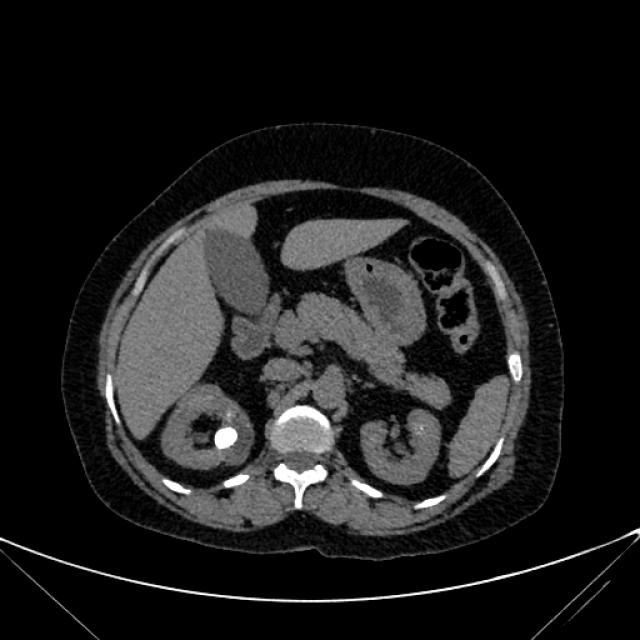kidney: (176, 395, 251, 468), (368, 422, 438, 478)
stone: (217, 430, 235, 448), (420, 426, 423, 431), (227, 412, 230, 416), (417, 432, 421, 434), (414, 428, 416, 431)
